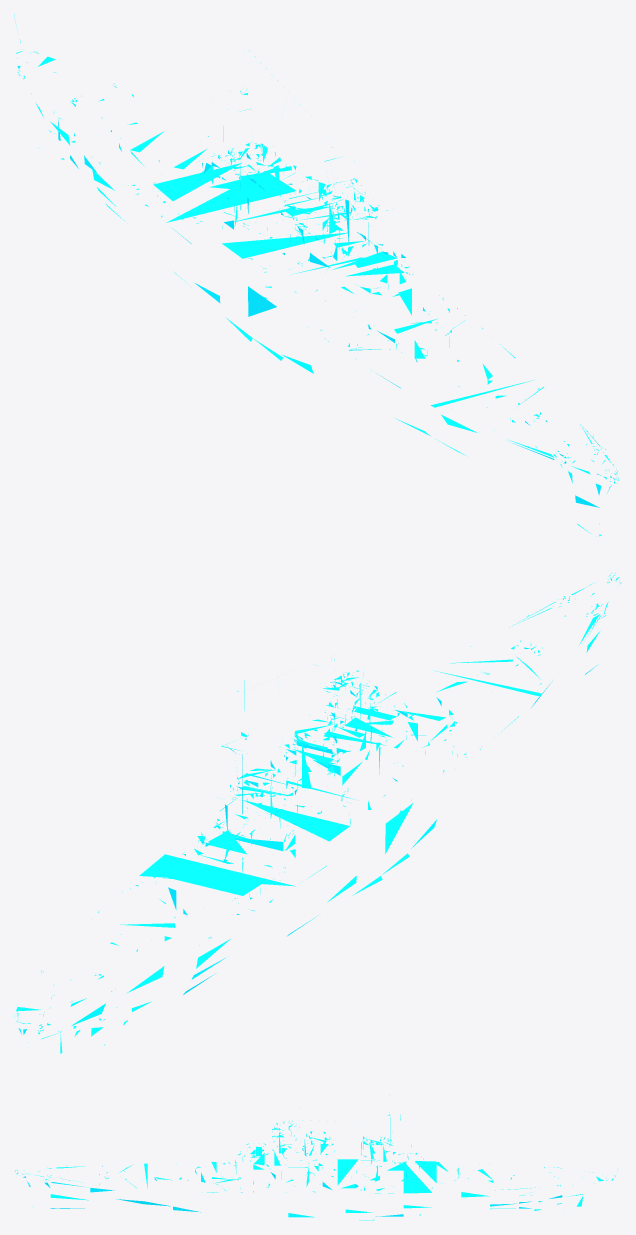
Rendered from Black_Pommern.glb.
The picture shows the model from 3 angles, top to bottom: view 1: azimuth 30°, elevation 25°; view 2: azimuth 150°, elevation 25°; view 3: azimuth 270°, elevation 25°; orthographic projection. The views are drawn at different scales.
Bounding box in the file's own units: 2.47 × 4.13 × 18.72.
